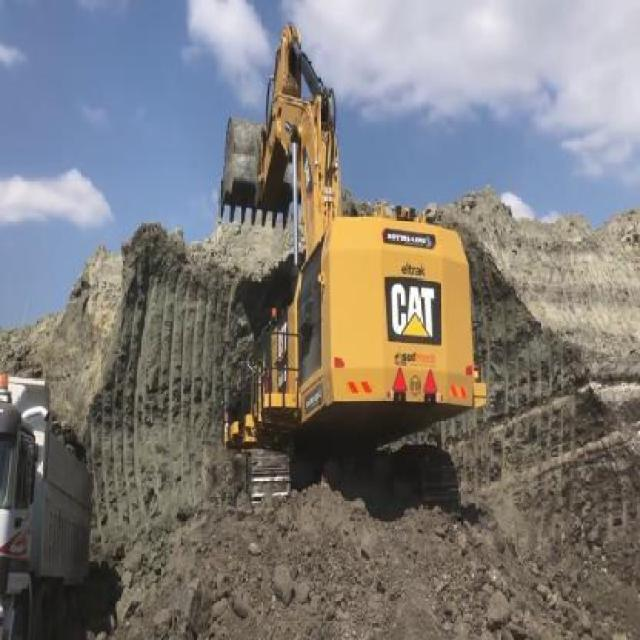dump_truck: (0, 373, 97, 639)
excavator: (218, 19, 490, 533)
